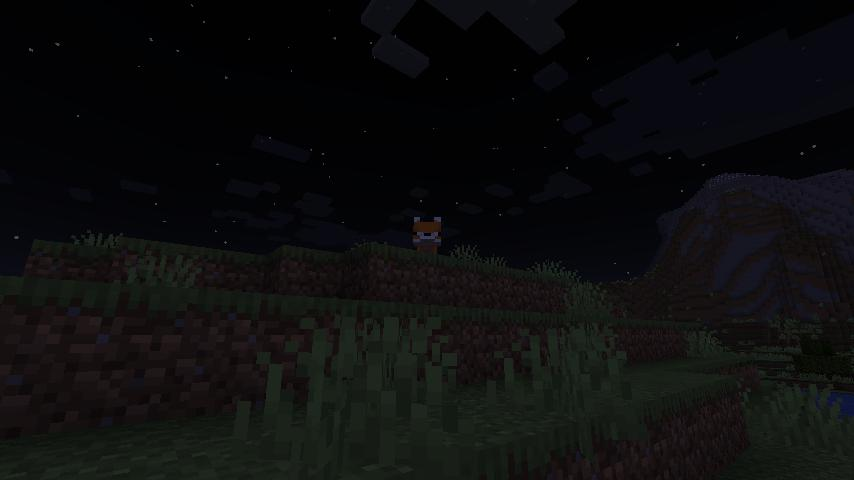fox: (408, 210, 445, 267)
